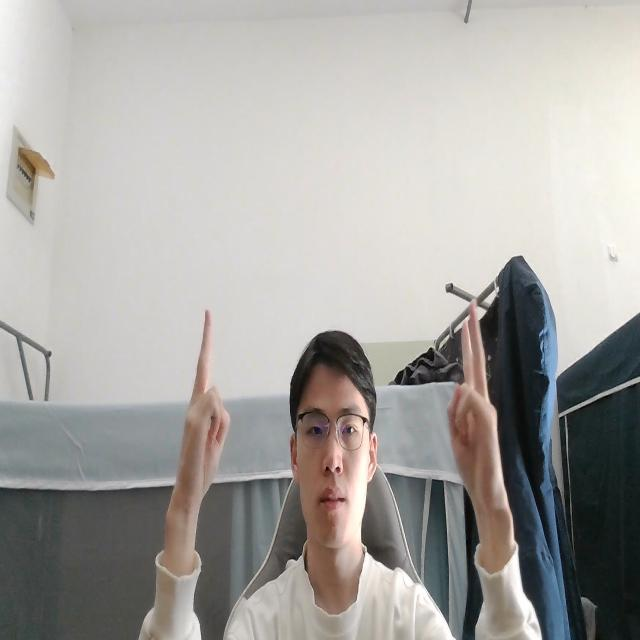yes: (442, 293, 511, 531)
